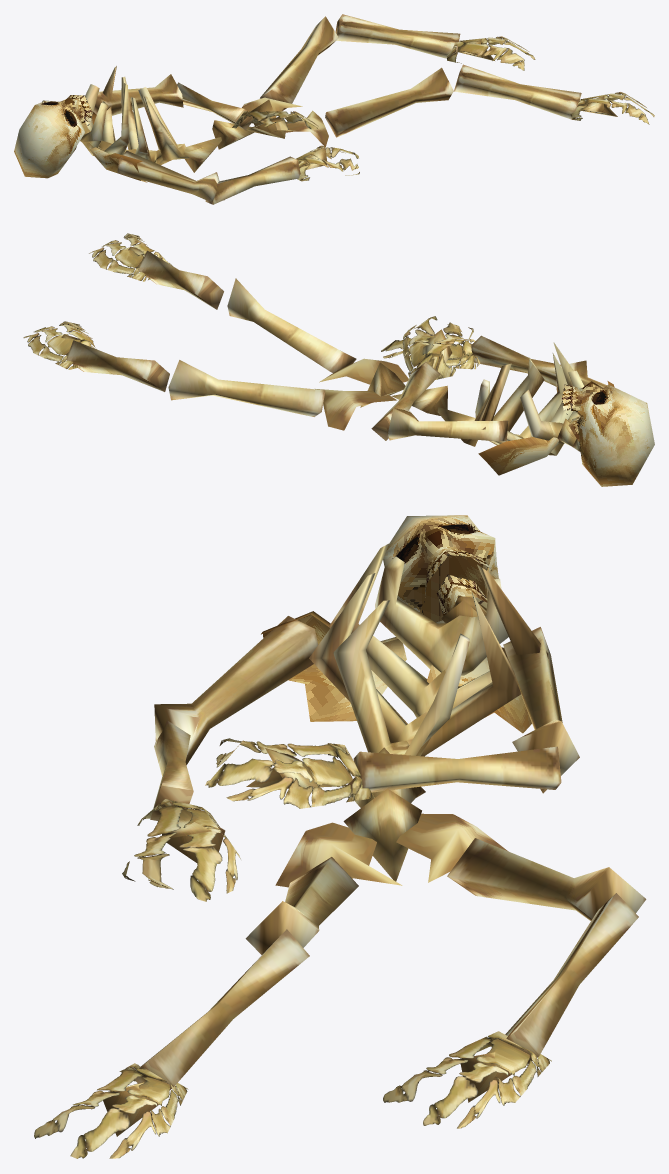
File: lightskeletonlaying03.obj
The picture shows the model from 3 angles, top to bottom: view 1: azimuth 30°, elevation 25°; view 2: azimuth 150°, elevation 25°; view 3: azimuth 270°, elevation 25°; orthographic projection. The views are drawn at different scales.
Visible parts, largest first — view 1: Geoset0, Geoset1, Geoset2; view 2: Geoset0, Geoset1, Geoset2; view 3: Geoset0, Geoset2, Geoset1.
Part boxes in pixels (x1,y1,x2,y2): Geoset0: [80, 14, 617, 204]; Geoset1: [14, 95, 147, 182]; Geoset2: [232, 36, 654, 181]; Geoset0: [61, 246, 606, 455]; Geoset1: [478, 381, 654, 486]; Geoset2: [23, 233, 480, 379]; Geoset0: [103, 543, 646, 1136]; Geoset2: [34, 738, 551, 1158]; Geoset1: [261, 515, 531, 733].
Bounding box in the file's own units: 2.01 × 0.3694 × 0.9929.
3 materials, 3 textured.
